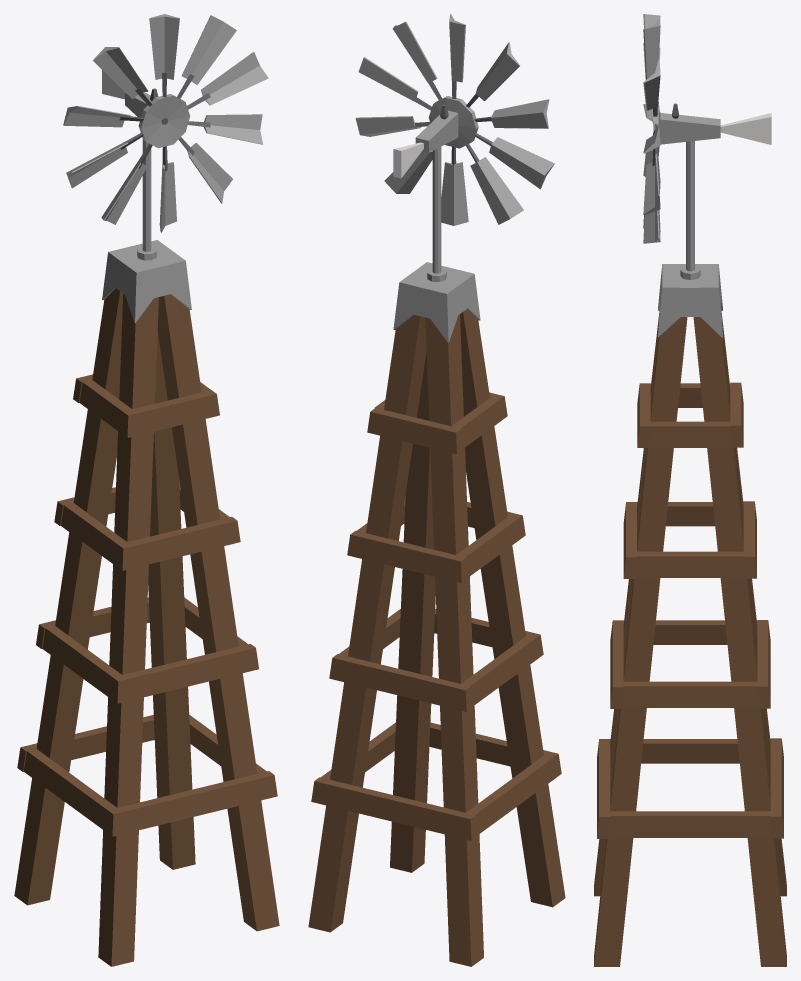
File: Isl_13_Windmill.fbx
3 renders of one model, left to right at view 1: azimuth 30°, elevation 25°; view 2: azimuth 150°, elevation 25°; view 3: azimuth 270°, elevation 25°, orthographic. The views are drawn at different scales.
Visible parts, largest first — view 1: Isl_13_Windmill; view 2: Isl_13_Windmill; view 3: Isl_13_Windmill.
Boxes of the visible parts, box(x1,y1,x2,y2) form: Isl_13_Windmill: box(14, 14, 279, 966); Isl_13_Windmill: box(308, 14, 565, 966); Isl_13_Windmill: box(594, 14, 786, 966).
Size of the model in its own units: 312 by 264 by 1359.
1 material, 1 textured.
